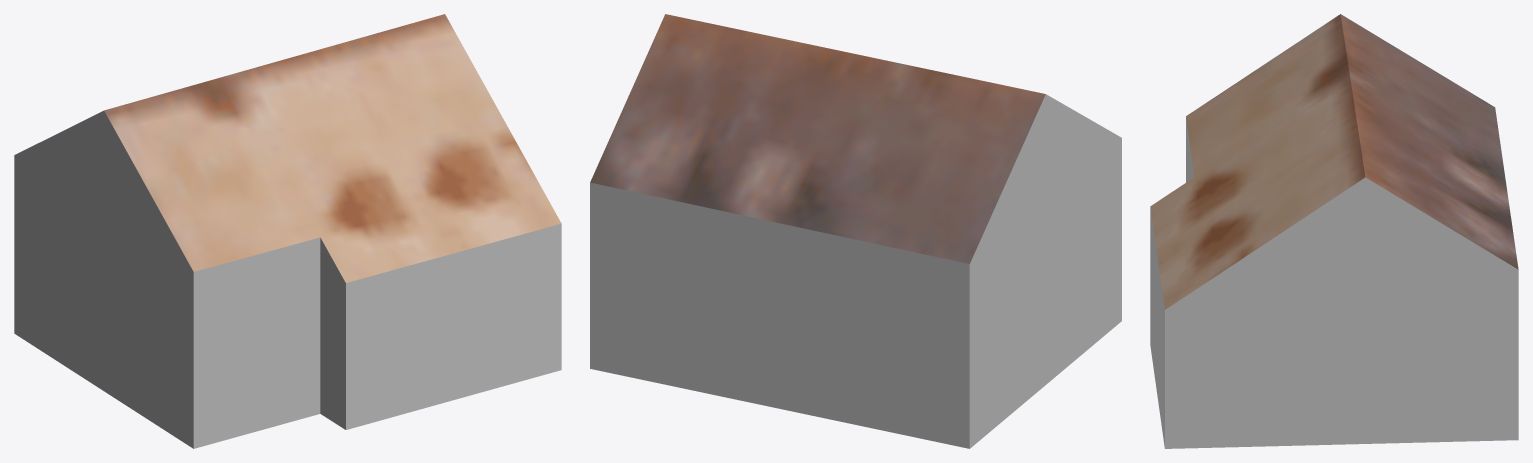
File: DEBW_0010007Txdy.gltf
3 renders of one model, left to right at view 1: azimuth 30°, elevation 25°; view 2: azimuth 150°, elevation 25°; view 3: azimuth 270°, elevation 25°, orthographic. The views are drawn at different scales.
Parts seen in each view (by area): view 1: Z_UP; view 2: Z_UP; view 3: Z_UP.
Boxes of the visible parts, box(x1,y1,x2,y2) form: Z_UP: box(14, 14, 561, 448); Z_UP: box(590, 14, 1121, 448); Z_UP: box(1150, 14, 1518, 448).
Size of the model in its own units: 10.99 by 7.92 by 9.91.
2 materials, 1 textured.
